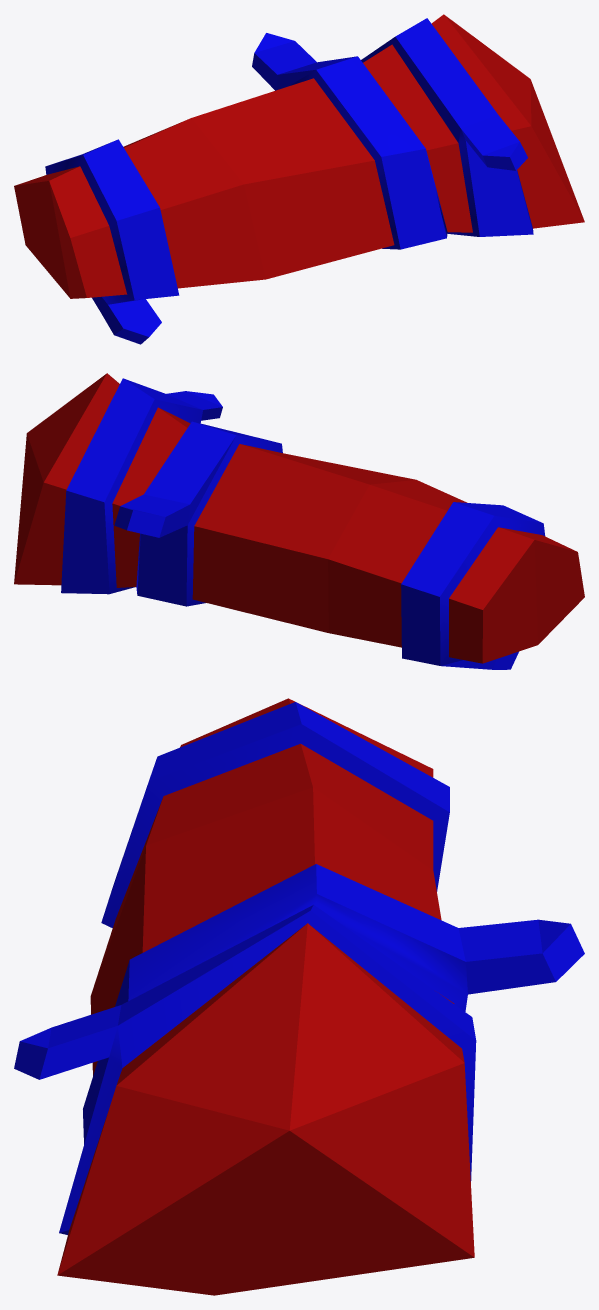
Rendered from Chr_ArmUpperRight_Male_Static_03.fbx.
3 renders of one model, top to bottom at view 1: azimuth 30°, elevation 25°; view 2: azimuth 150°, elevation 25°; view 3: azimuth 270°, elevation 25°, orthographic. The views are drawn at different scales.
Parts seen in each view (by area): view 1: Chr_ArmUpperRight_Male_03; view 2: Chr_ArmUpperRight_Male_03; view 3: Chr_ArmUpperRight_Male_03.
Boxes of the visible parts, box(x1,y1,x2,y2) form: Chr_ArmUpperRight_Male_03: box(14, 14, 584, 344); Chr_ArmUpperRight_Male_03: box(14, 373, 584, 669); Chr_ArmUpperRight_Male_03: box(14, 698, 584, 1295).
Bounding box in the file's own units: 33.45 × 14.33 × 19.54.
